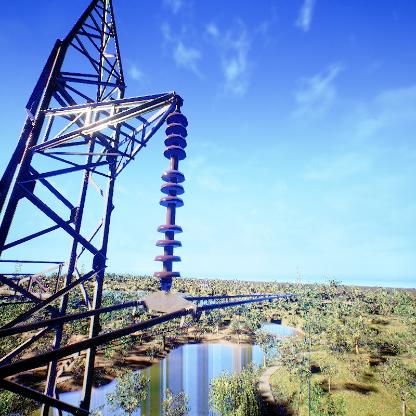insulator: (148, 109, 194, 291)
